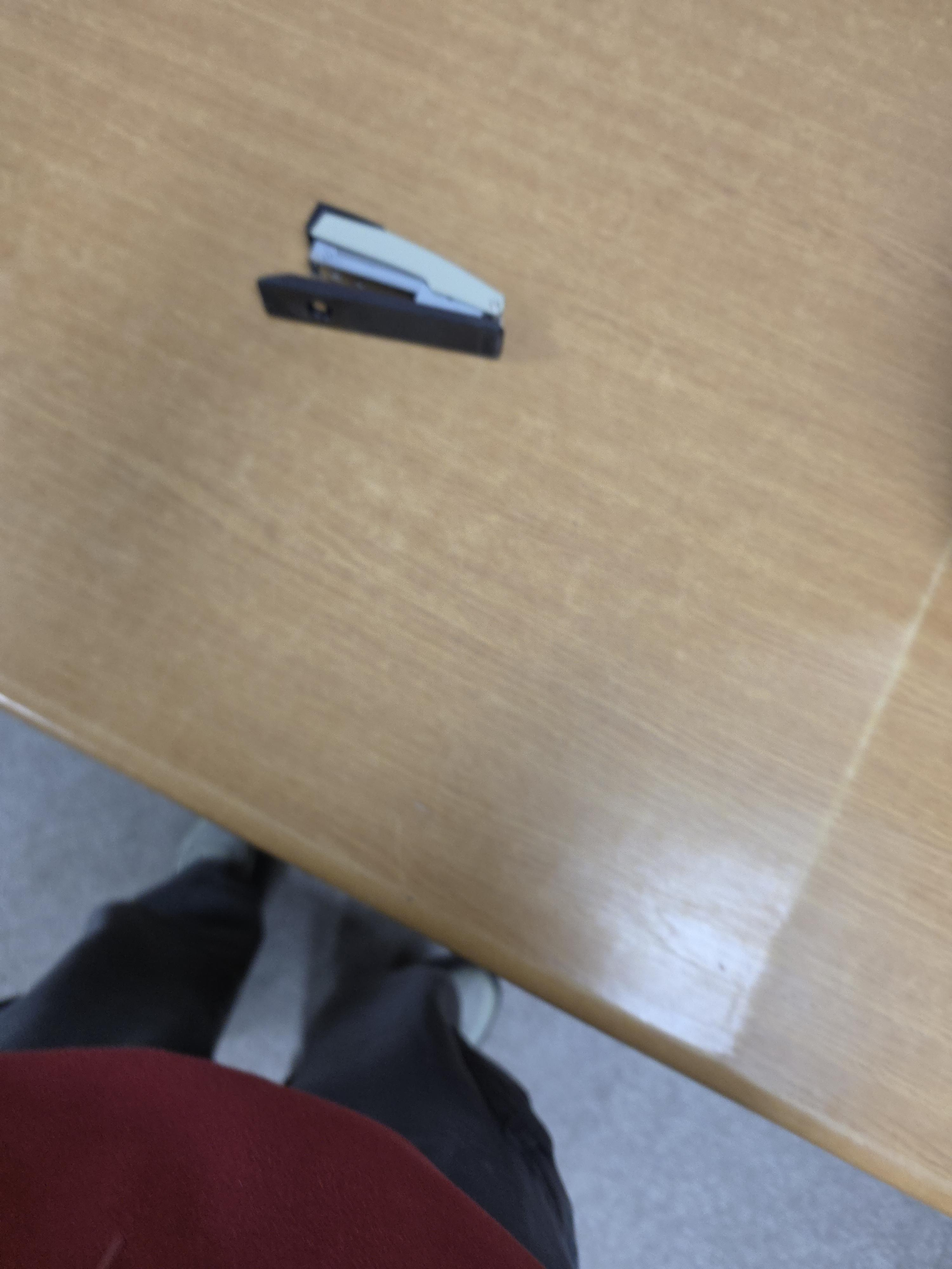stapler: (255, 201, 506, 359)
